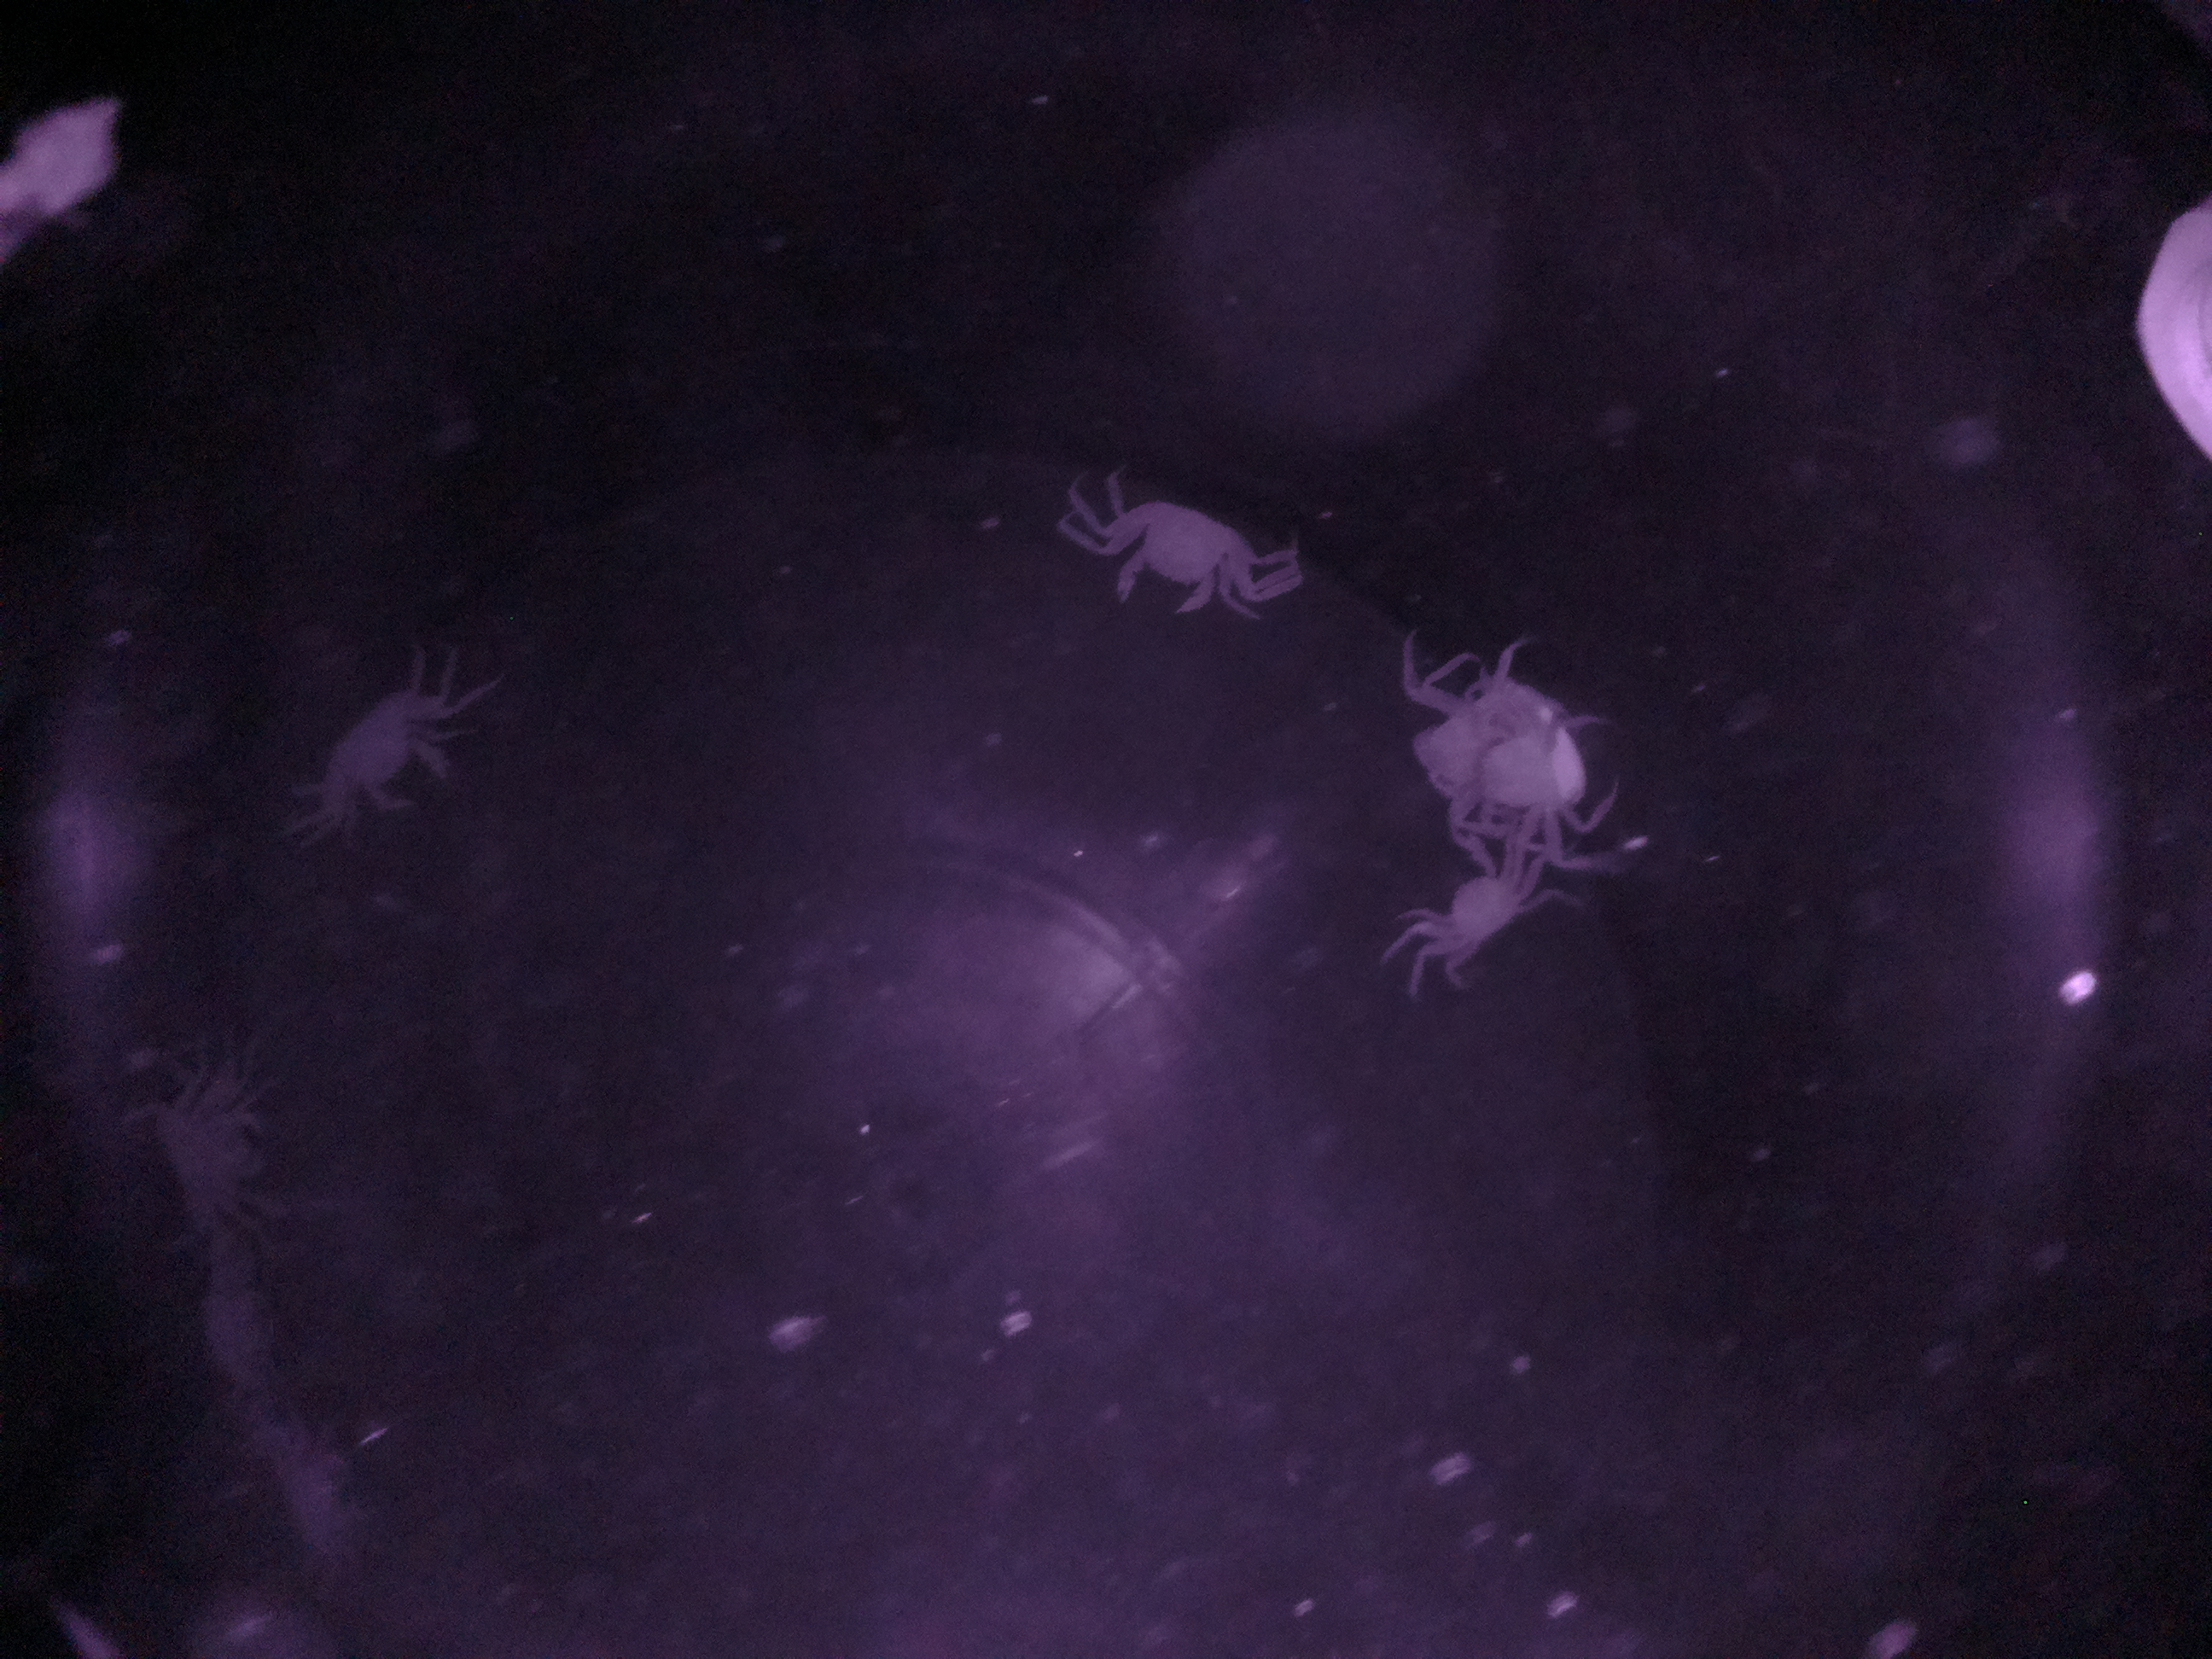Crab: (1066, 467, 1292, 633), (1397, 824, 1585, 997), (298, 678, 486, 840)
